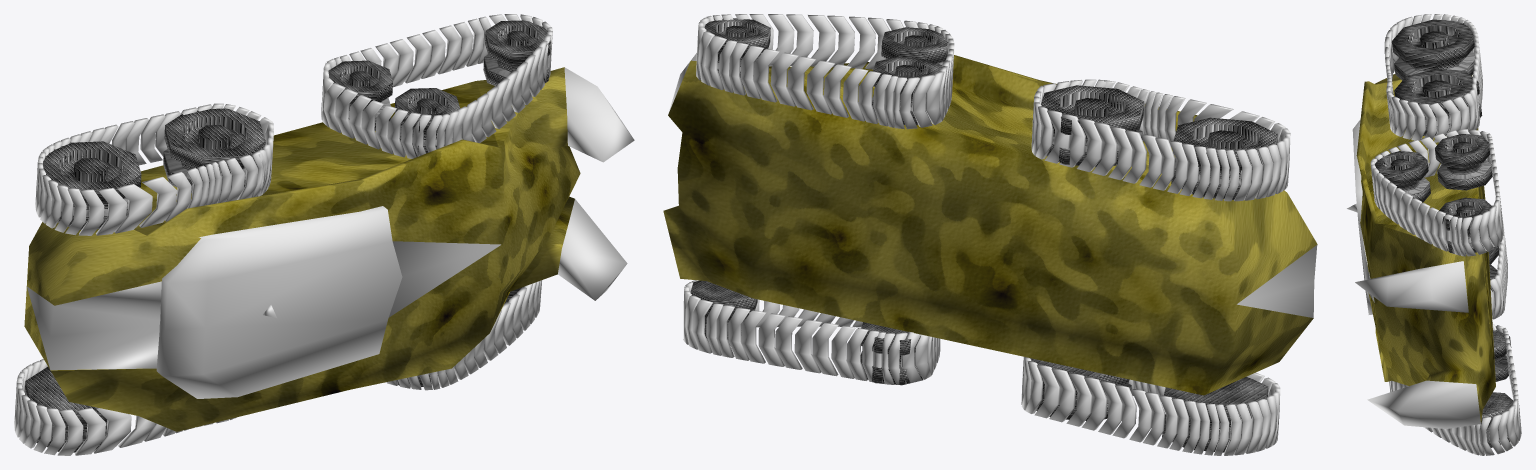
File: Dozer_dead.fbx
3 views of the same model, side by side, from view 1: azimuth 30°, elevation 25°; view 2: azimuth 150°, elevation 25°; view 3: azimuth 270°, elevation 25° (orthographic). The views are drawn at different scales.
Visible parts, largest first — view 1: Body0, Color1, Color0, Cylinder09_None; view 2: Body0, Color0, Cylinder09_None, Color1; view 3: Body0, Color0, Cylinder09_None, Color1.
Part boxes in pixels (box(x1,y1,x2,y2)): Body0: box(24, 67, 580, 431); Color1: box(27, 67, 634, 398); Color0: box(14, 14, 552, 455); Cylinder09_None: box(24, 20, 550, 452); Body0: box(663, 55, 1317, 395); Color0: box(683, 14, 1290, 455); Cylinder09_None: box(690, 18, 1277, 452); Color1: box(668, 53, 1317, 317); Body0: box(1356, 74, 1495, 422); Color0: box(1370, 14, 1521, 455); Cylinder09_None: box(1374, 19, 1513, 447); Color1: box(1352, 119, 1480, 428).
Size of the model in its own units: 140 by 68.22 by 44.7.
2 materials, 2 textured.
